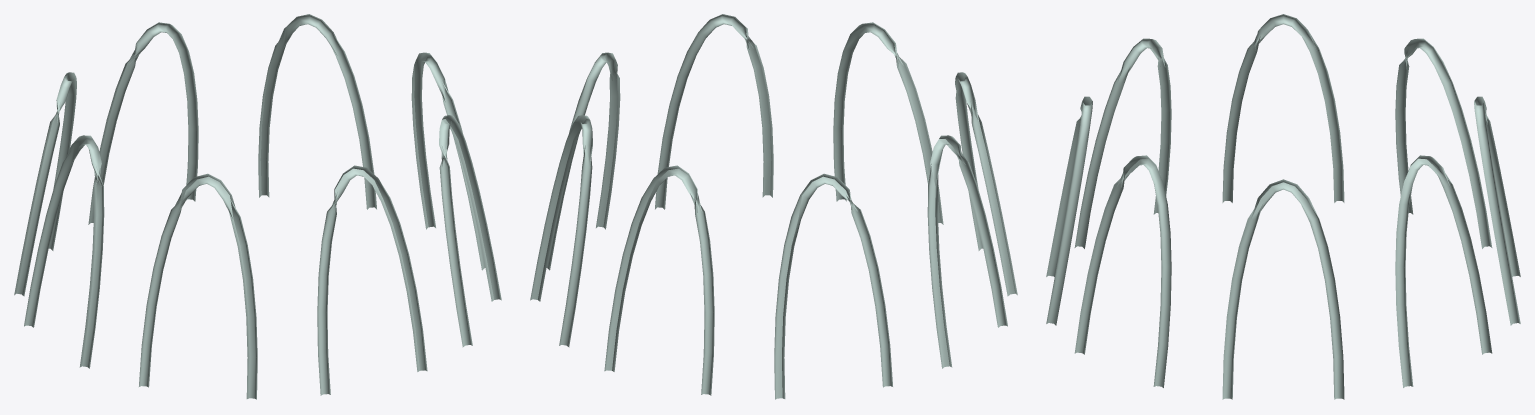
File: health-signature.gltf
3 views of the same model, side by side, from view 1: azimuth 30°, elevation 25°; view 2: azimuth 150°, elevation 25°; view 3: azimuth 270°, elevation 25° (orthographic).
Visible parts, largest first — view 1: health-signature; view 2: health-signature; view 3: health-signature.
Part boxes in pixels (x1,y1,x2,y2): health-signature: (14, 14, 501, 399); health-signature: (530, 14, 1017, 399); health-signature: (1046, 14, 1520, 399).
Size of the model in its own units: 3.22 by 1.54 by 3.23.
